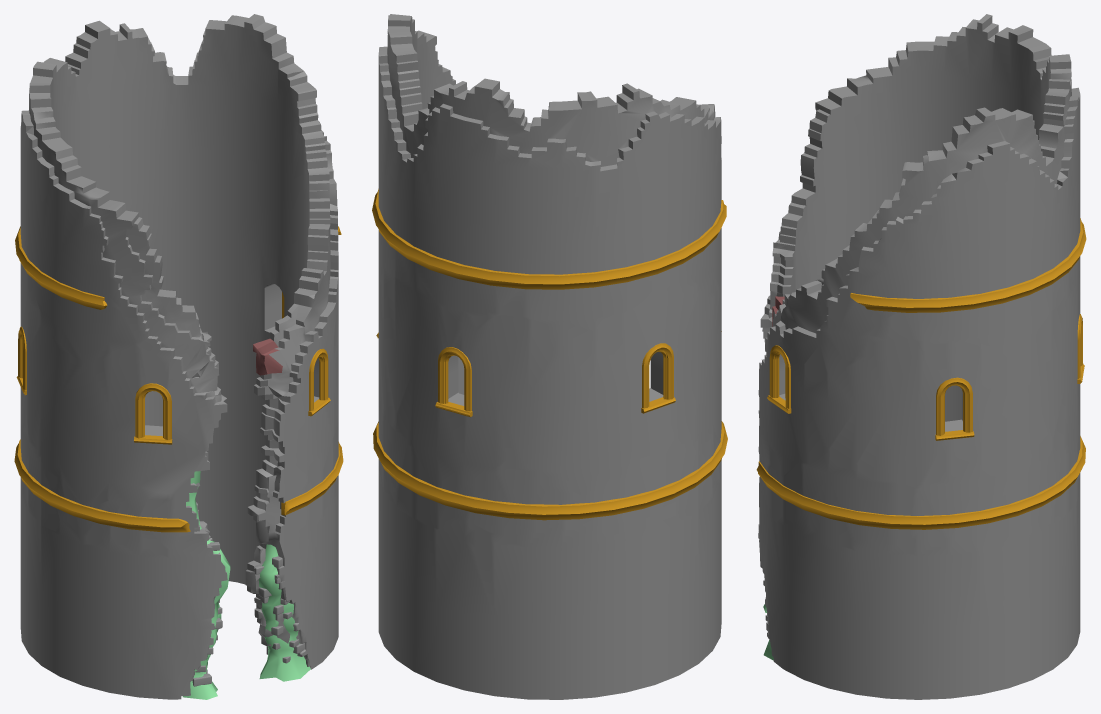
The model's file is SM_Big_Castle_Tower_Empty.fbx.
3 views of the same model, side by side, from view 1: azimuth 30°, elevation 25°; view 2: azimuth 150°, elevation 25°; view 3: azimuth 270°, elevation 25° (orthographic). The views are drawn at different scales.
Visible parts, largest first — view 1: SM_Big_Castle_Tower_Empty_LOD0; view 2: SM_Big_Castle_Tower_Empty_LOD0; view 3: SM_Big_Castle_Tower_Empty_LOD0.
Part boxes in pixels (x1,y1,x2,y2): SM_Big_Castle_Tower_Empty_LOD0: (14,14,343,699); SM_Big_Castle_Tower_Empty_LOD0: (372,14,727,699); SM_Big_Castle_Tower_Empty_LOD0: (756,14,1086,699).
Size of what is drawn, in the model's own units: 1074 by 2036 by 1060.
